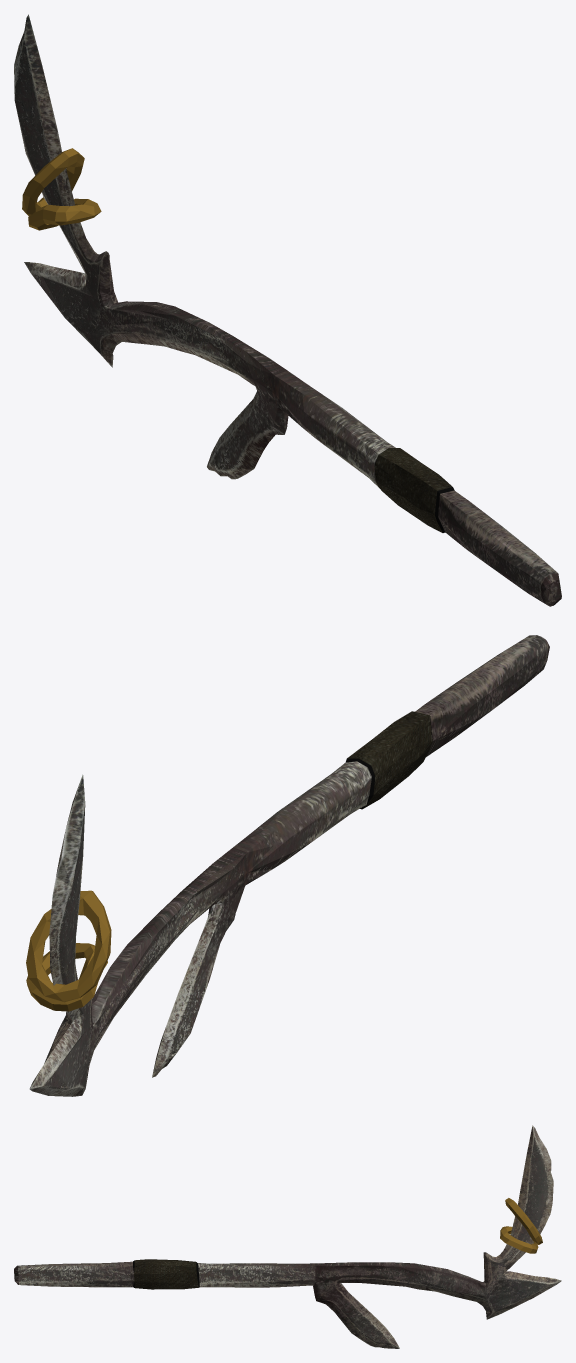
Rendered from pinga.glb.
The picture shows the model from 3 angles, top to bottom: view 1: azimuth 30°, elevation 25°; view 2: azimuth 150°, elevation 25°; view 3: azimuth 270°, elevation 25°; orthographic projection. The views are drawn at different scales.
Parts seen in each view (by area): view 1: Pinga.002, chain HP.003; view 2: Pinga.002, chain HP.003; view 3: Pinga.002, chain HP.003.
Boxes of the visible parts, <box> form: Pinga.002: <box>14,14,561,606</box>; chain HP.003: <box>22,148,101,230</box>; Pinga.002: <box>29,635,549,1096</box>; chain HP.003: <box>26,890,111,1011</box>; Pinga.002: <box>14,1125,561,1348</box>; chain HP.003: <box>500,1198,542,1253</box>.
Size of the model in its own units: 0.3126 by 1.33 by 3.17.
3 materials, 3 textured.
